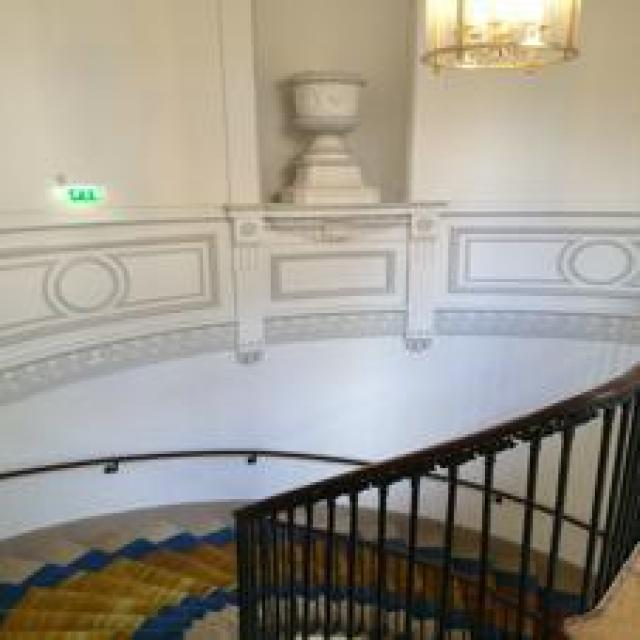downstair: (12, 444, 258, 624)
